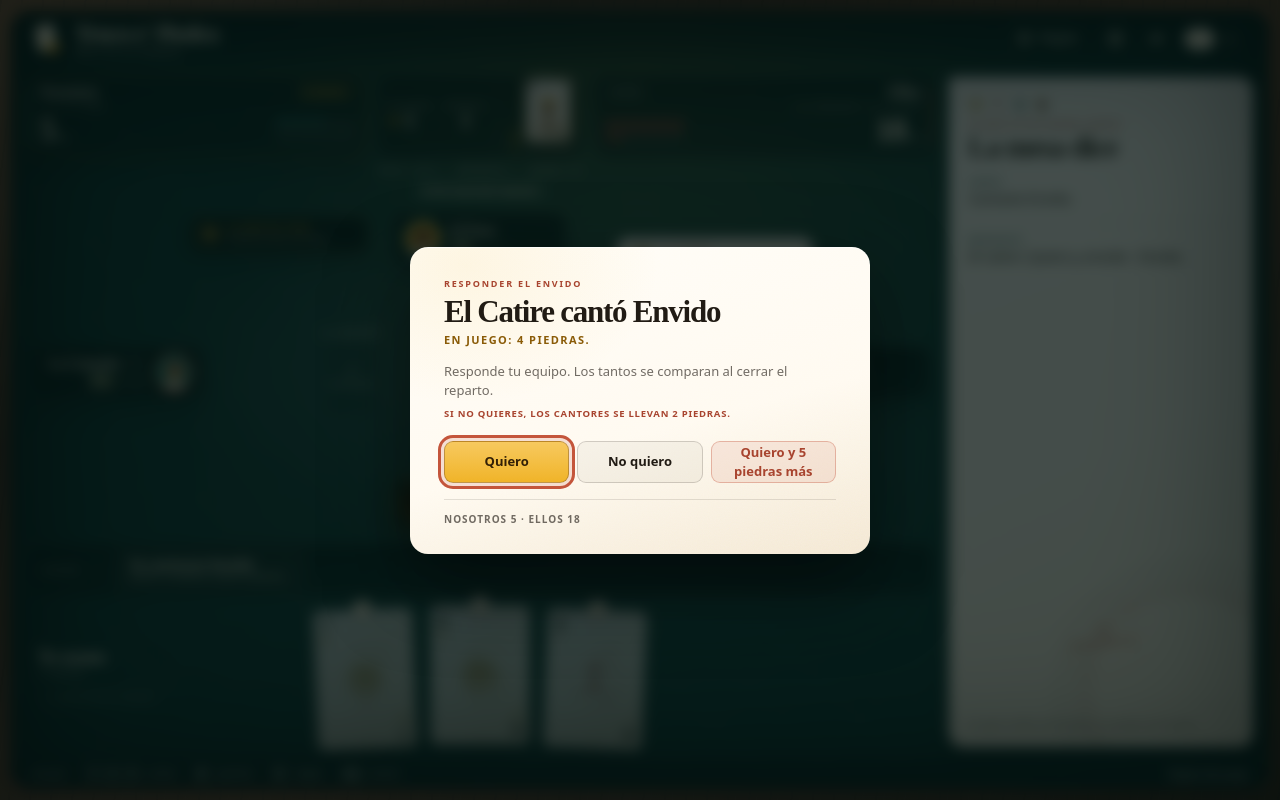
Test: the envido dialog › accepts the envido, closes the dialog and leaves the turn on the table
The image size is (1280, 800).
Click the button with aria-label "Querer el Envido".
click(507, 461)  # box [444, 440, 569, 482]
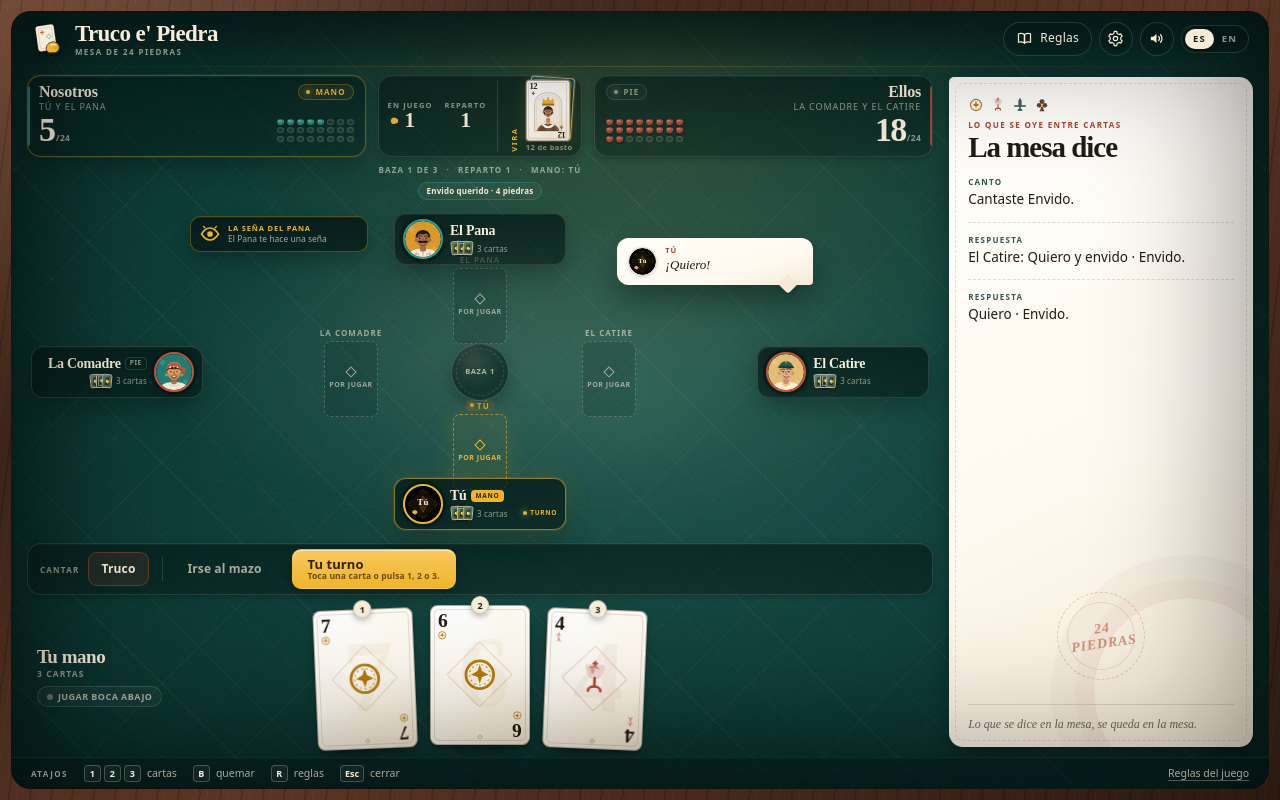
expect the dialog is gone: met
expect the text "Envido querido · 4 piedras" is shown: met, box [427, 186, 533, 196]
expect the text "Quiero · Envido." is shown: met, box [968, 305, 1069, 323]
